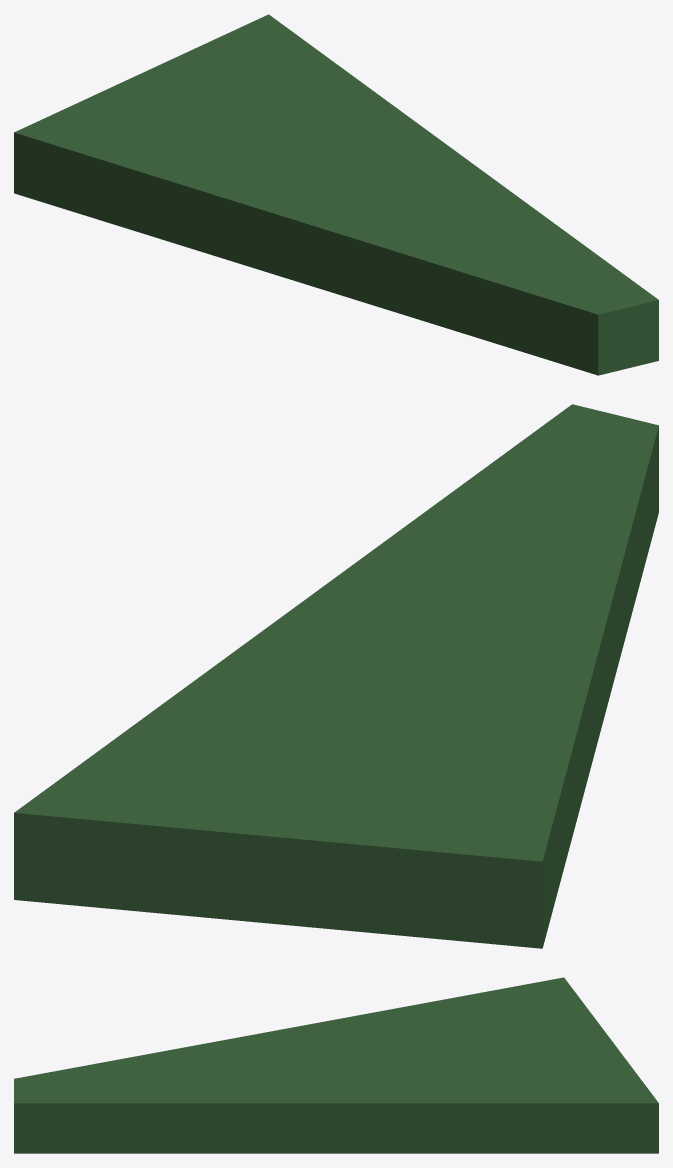
Rendered from x_proval_00_175_1_rmstrd.fbx.
The picture shows the model from 3 angles, top to bottom: view 1: azimuth 30°, elevation 25°; view 2: azimuth 150°, elevation 25°; view 3: azimuth 270°, elevation 25°; orthographic projection. The views are drawn at different scales.
Parts seen in each view (by area): view 1: x_proval_00_175_1_rmstrd1; view 2: x_proval_00_175_1_rmstrd1; view 3: x_proval_00_175_1_rmstrd1.
Part boxes in pixels (x1,y1,x2,y2): x_proval_00_175_1_rmstrd1: (14,14,658,375); x_proval_00_175_1_rmstrd1: (14,404,658,948); x_proval_00_175_1_rmstrd1: (14,977,658,1153).
Bounding box in the file's own units: 1.07 × 0.2 × 2.32.
